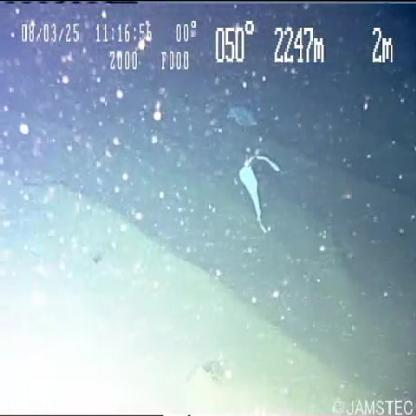Rác: (239, 168, 266, 235)
